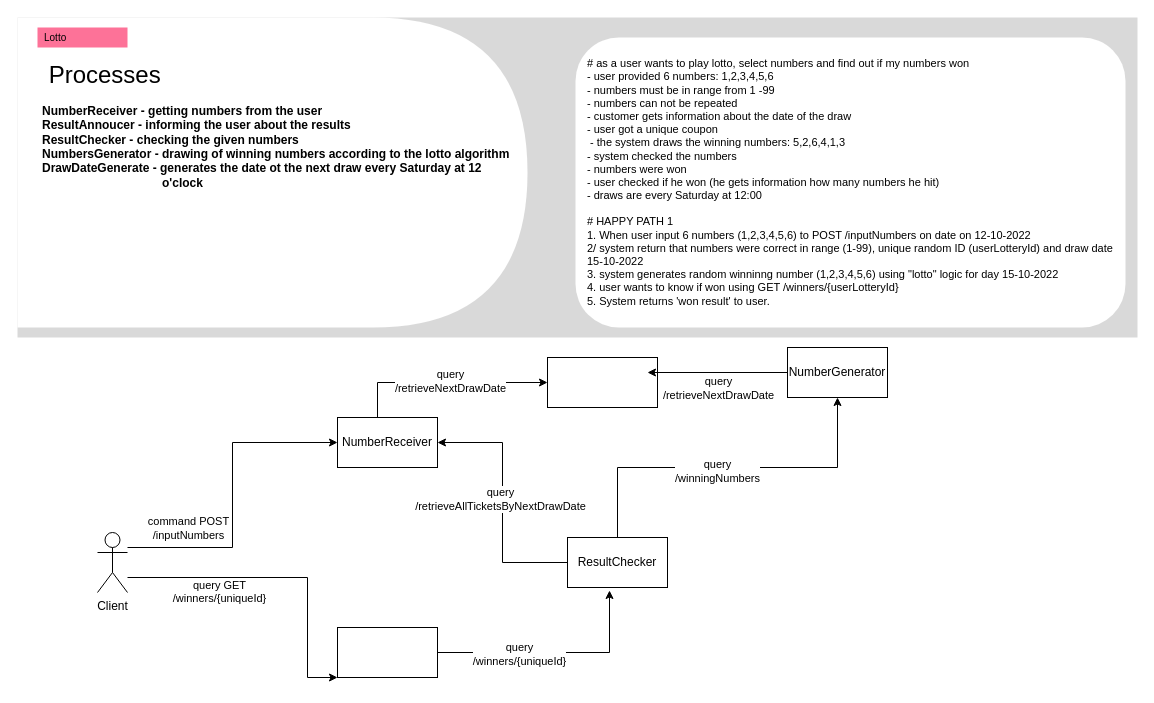
The diagram is 1154 pixels wide and 703 high, and some of its shapes have lost their labels. Each missing label, with the centre of its shape:
DrawDateGenerator: the point at 602,382
ResultAnnoucer: the point at 387,652
